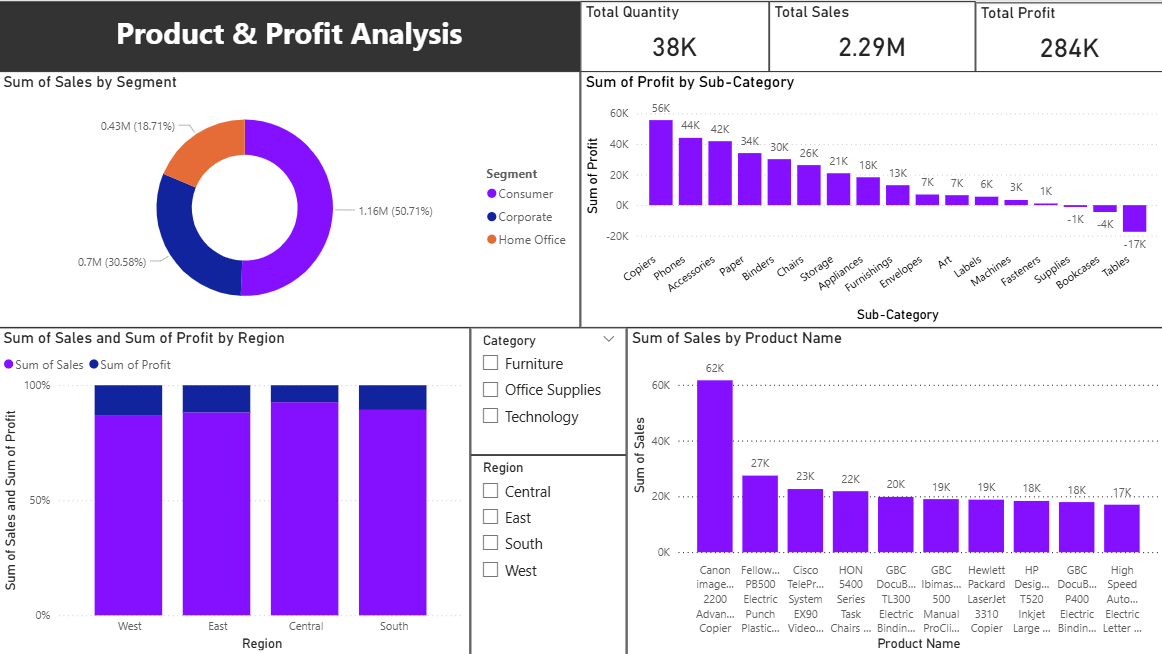

Layout of this report page (visuals, bound fields, positions):
{"tool":"powerbi","page":{"name":"Page 1","canvas":[1280,720],"ordinal":0},"visuals":[{"type":"clusteredColumnChart","fields":{"Category":["Orders.Product Name"],"Y":["Sum(Orders.Sales)"]},"box":[690.2,359.5,590.1,360.9],"z":0},{"type":"hundredPercentStackedColumnChart","fields":{"Category":["Orders.Region"],"Y":["Sum(Orders.Sales)","Sum(Orders.Profit)"]},"box":[0,359.5,518.7,360.9],"z":1000},{"type":"donutChart","fields":{"Y":["Sum(Orders.Sales)"],"Category":["Orders.Segment"]},"box":[0,78.2,639.5,281.3],"z":2000},{"type":"card","title":"Total Sales","fields":{"Values":["Orders.total sales"]},"box":[846.7,1.4,226.4,78.2],"z":3000},{"type":"card","title":"Total Profit","fields":{"Values":["Sum(Orders.Profit)"]},"box":[1073.1,2.7,207.2,76.8],"z":4000},{"type":"card","title":"Total Quantity","fields":{"Values":["Sum(Orders.Quantity)"]},"box":[639.5,1.4,207.2,78.2],"z":5000},{"type":"clusteredColumnChart","fields":{"Category":["Orders.Sub-Category"],"Y":["Sum(Orders.Profit)"]},"box":[639.5,78.2,640.8,281.3],"z":6000},{"type":"textbox","box":[0,1.4,639.5,76.8],"z":7000},{"type":"slicer","fields":{"Values":["Orders.Category"]},"box":[518.7,359.5,171.5,140],"z":8000},{"type":"slicer","fields":{"Values":["Orders.Region"]},"box":[518.7,499.5,171.5,220.9],"z":9000}]}

Visuals, with their boxes in screenshot pixels (x1, y1, x2, y2), scaled from the page's 1280x720 canvas onto the 1162x654 screenshot:
clusteredColumnChart - Orders.Product Name x Sum(Orders.Sales): (627, 327, 1161, 653)
hundredPercentStackedColumnChart - Orders.Region x Sum(Orders.Sales): (0, 327, 471, 653)
donutChart - Sum(Orders.Sales) x Orders.Segment: (0, 71, 581, 327)
"Total Sales" card: (769, 1, 974, 72)
"Total Profit" card: (974, 2, 1161, 72)
"Total Quantity" card: (581, 1, 769, 72)
clusteredColumnChart - Orders.Sub-Category x Sum(Orders.Profit): (581, 71, 1161, 327)
textbox: (0, 1, 581, 71)
slicer - Orders.Category: (471, 327, 627, 454)
slicer - Orders.Region: (471, 454, 627, 653)
